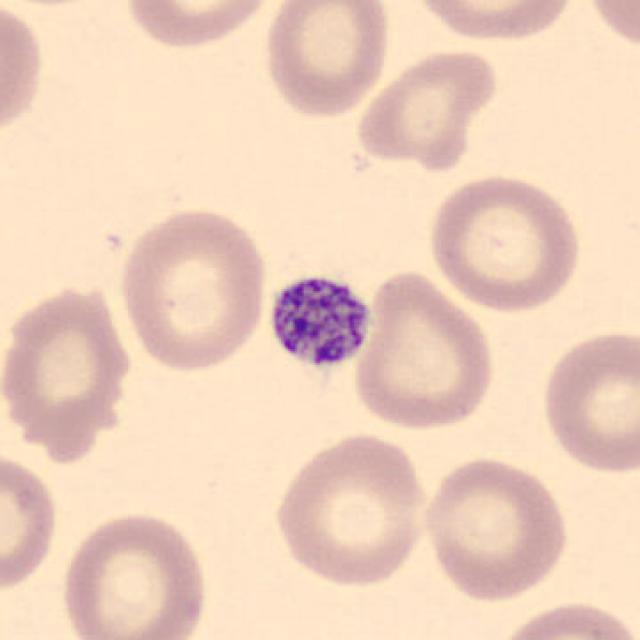Platelets: (265, 268, 377, 376)
RBC: (116, 201, 272, 376), (268, 428, 432, 590), (0, 278, 137, 466), (348, 264, 499, 434), (423, 169, 587, 316), (418, 453, 572, 603), (57, 506, 213, 640), (352, 44, 503, 171), (260, 0, 394, 120), (537, 324, 638, 478), (0, 446, 64, 596), (119, 0, 279, 51), (407, 0, 580, 46), (0, 0, 50, 148), (488, 597, 638, 640), (581, 0, 639, 56)
